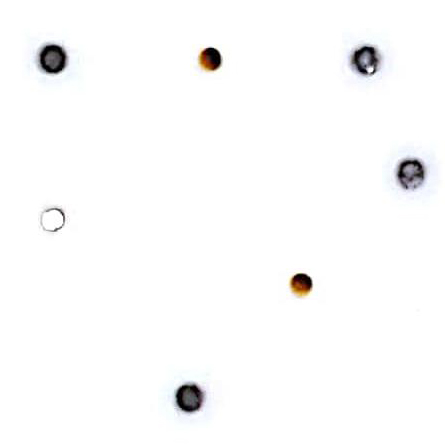abnormal: (37, 196, 81, 241)
cancer: (382, 136, 442, 206), (333, 26, 405, 84), (156, 368, 224, 427), (24, 30, 82, 95)
normal: (188, 43, 238, 84), (277, 262, 324, 303)
